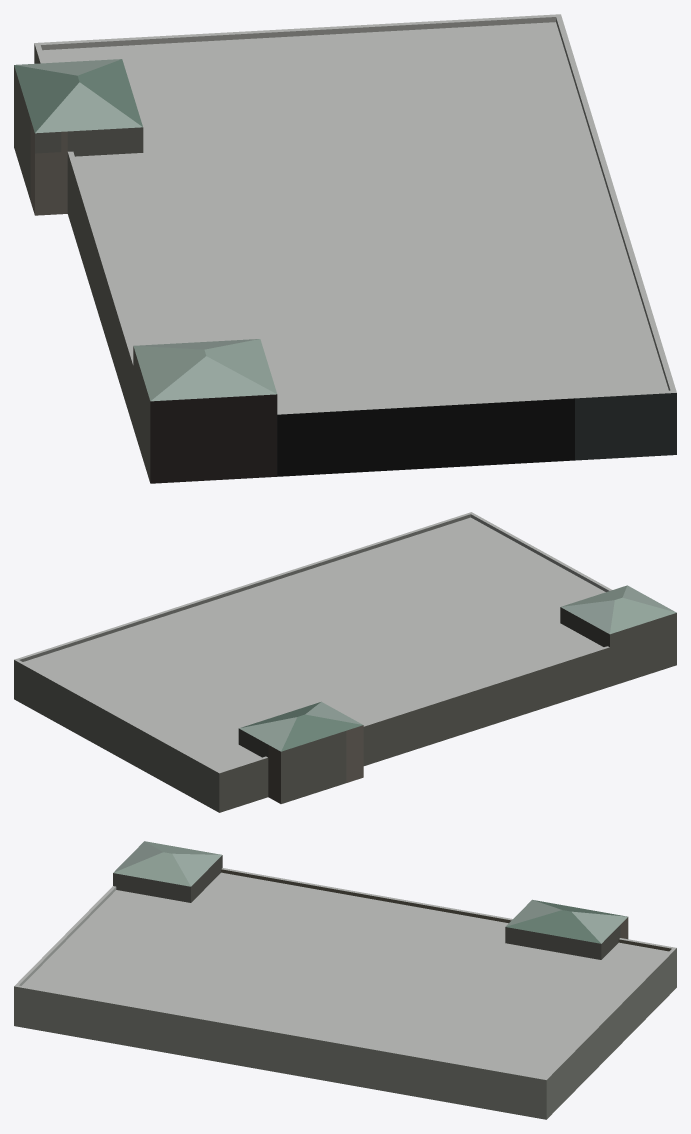
Rendered from tennessee-valley-public-power-association.glb.
3 views of the same model, one above another, from view 1: azimuth 30°, elevation 25°; view 2: azimuth 150°, elevation 25°; view 3: azimuth 270°, elevation 25° (orthographic). The views are drawn at different scales.
Visible parts, largest first — view 1: LOD0; view 2: LOD0; view 3: LOD0.
Boxes of the visible parts, x1=… form: LOD0: x1=14, y1=14, x2=676, y2=483; LOD0: x1=14, y1=512, x2=676, y2=812; LOD0: x1=14, y1=841, x2=676, y2=1119.
Size of what is drawn, in the model's own units: 67.07 by 8.8 by 83.13.
1 material, 1 textured.
